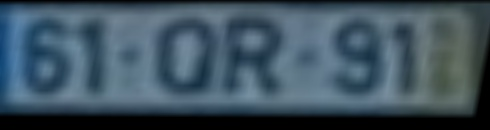1: (70, 16, 114, 102), (389, 19, 425, 107)
6: (17, 16, 77, 101)
9: (327, 15, 391, 103)
Q: (150, 13, 225, 102)
R: (217, 17, 289, 101)
